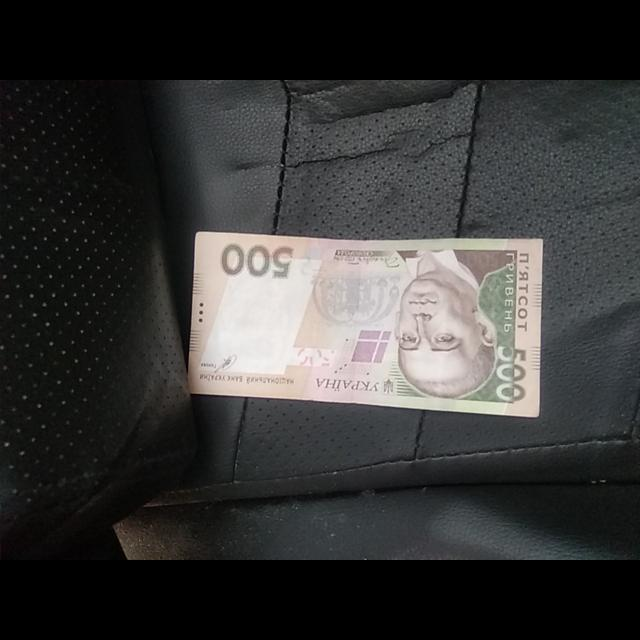500uah: (188, 232, 543, 415)
